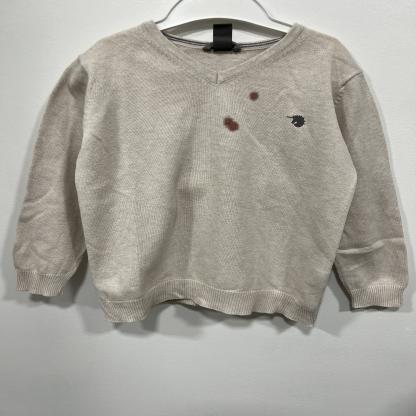stain: (219, 113, 243, 135), (244, 90, 263, 103)
